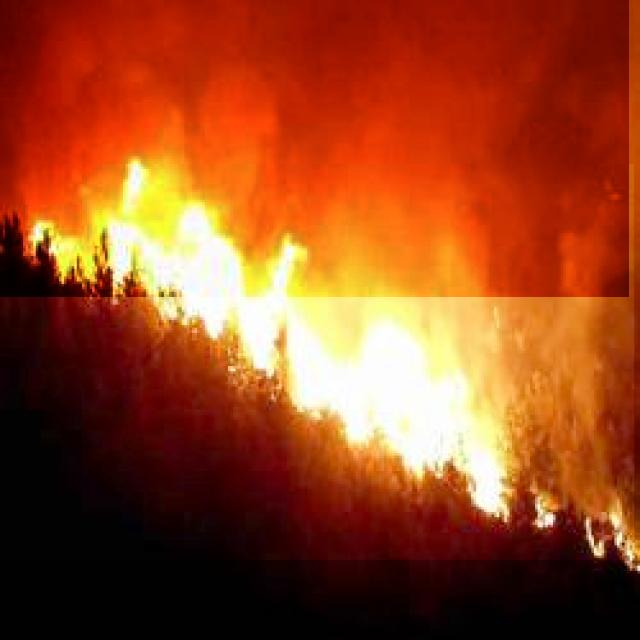Fire: (0, 164, 634, 560)
Smoke: (0, 0, 629, 297)
